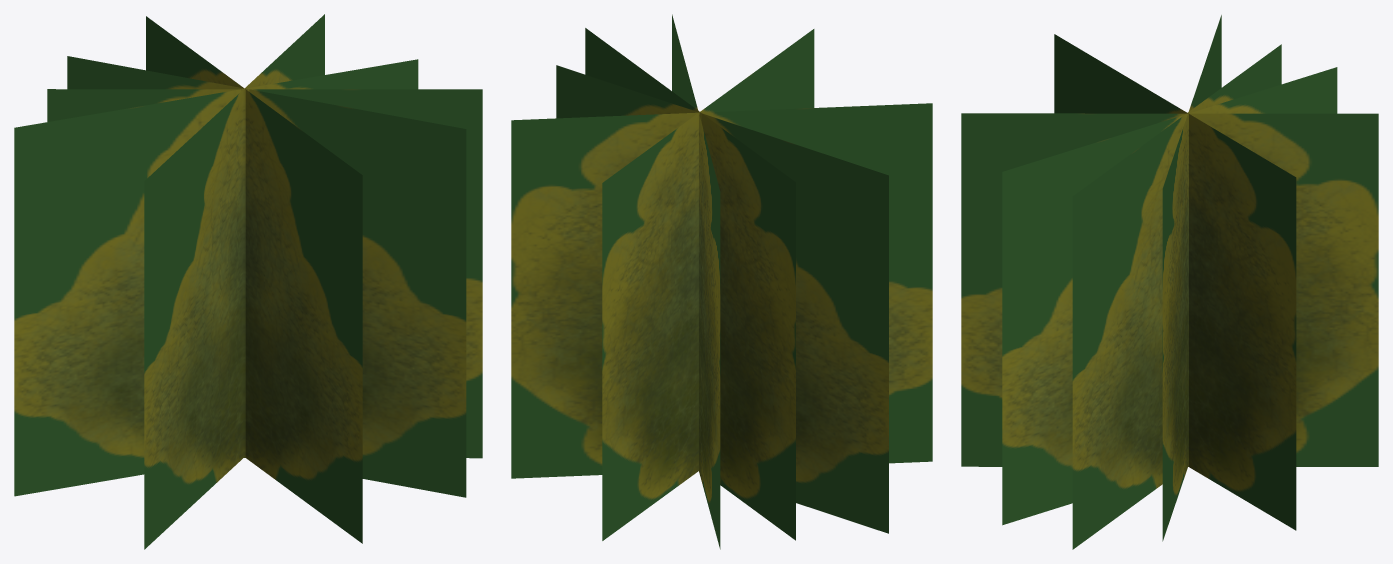
The model's file is SM_Lounge_Foliage_04.fbx.
The picture shows the model from 3 angles, left to right: view 1: azimuth 30°, elevation 25°; view 2: azimuth 150°, elevation 25°; view 3: azimuth 270°, elevation 25°; orthographic projection. The views are drawn at different scales.
Visible parts, largest first — view 1: SM_Lounge_Foliage_04; view 2: SM_Lounge_Foliage_04; view 3: SM_Lounge_Foliage_04.
Boxes of the visible parts, x1,y1,x2,y2 form: SM_Lounge_Foliage_04: (14,14,482,549); SM_Lounge_Foliage_04: (511,14,932,549); SM_Lounge_Foliage_04: (961,15,1378,549).
Bounding box in the file's own units: 30.99 × 27.98 × 29.92.
Materials: 1 (1 with a texture image).
